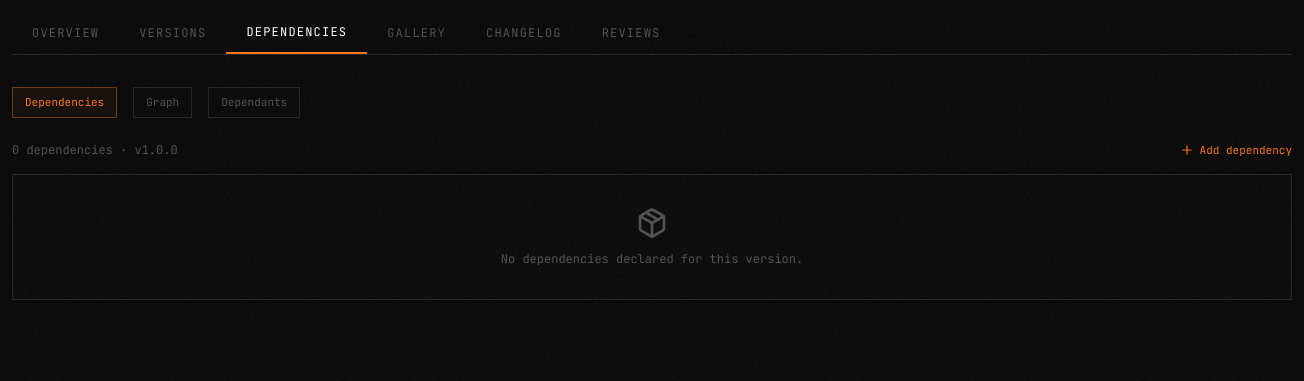
Test case: PluginContent › shows graph loading skeleton
This screenshot has width=1304, height=381.
What coordinates should you click on to do the following:
click the button "Graph"
I would click on:
 (163, 102)
Its box is [133, 87, 192, 118].
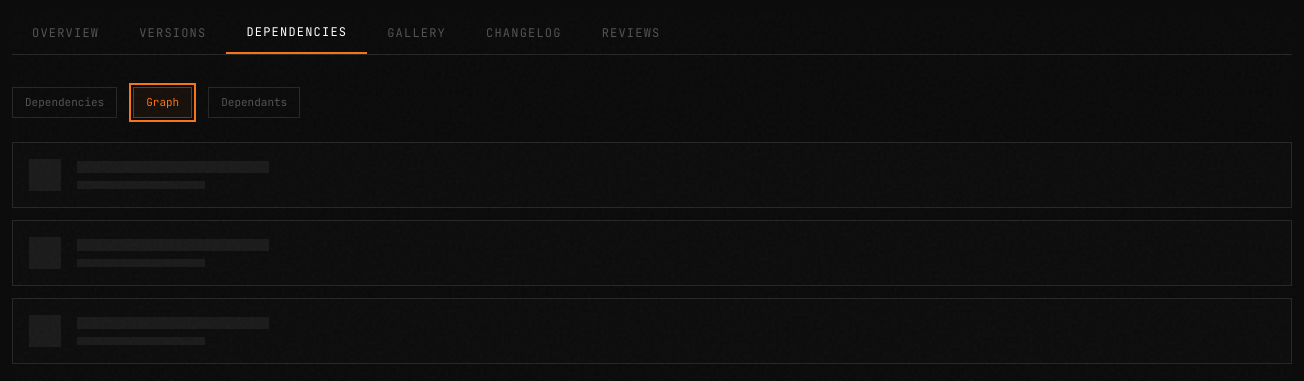
Expected: the element with class "animate-pulse" is shown, [12, 142, 1292, 364]
